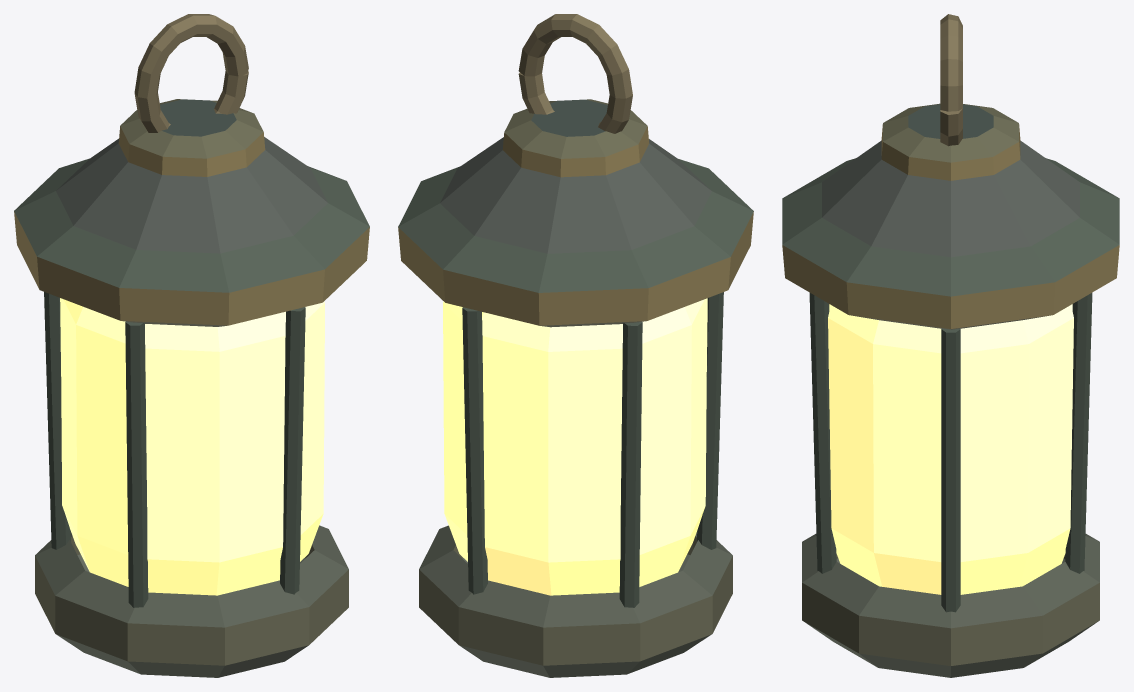
The model's file is GateLamp.glb.
3 renders of one model, left to right at view 1: azimuth 30°, elevation 25°; view 2: azimuth 150°, elevation 25°; view 3: azimuth 270°, elevation 25°, orthographic.
Visible parts, largest first — view 1: GateLamp; view 2: GateLamp; view 3: GateLamp.
Part boxes in pixels (left/top/right/bottom): GateLamp: left=14, top=14, right=369, bottom=677; GateLamp: left=398, top=14, right=753, bottom=677; GateLamp: left=782, top=14, right=1119, bottom=677.
Bounding box in the file's own units: 0.238 × 0.4568 × 0.2264.
